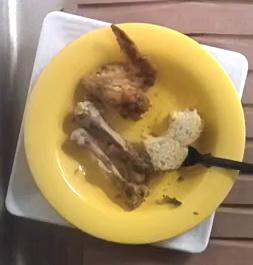bread: (143, 110, 203, 171)
wings: (81, 25, 157, 120)
